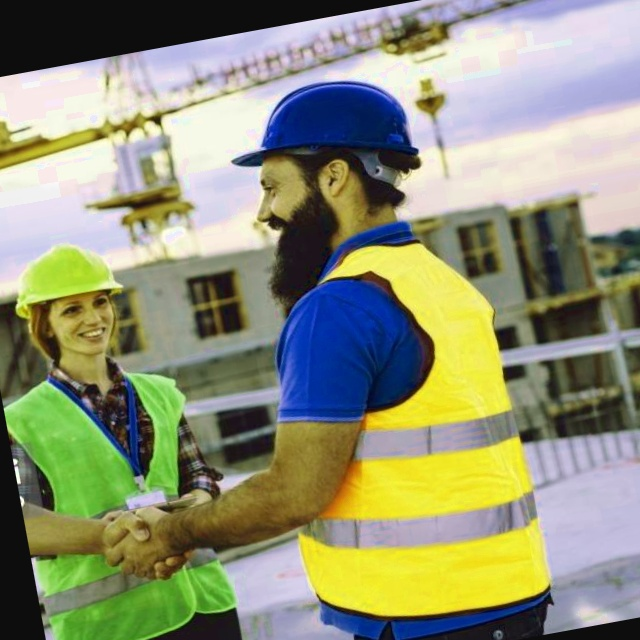Con_Casco: (1, 235, 141, 377)
Con_Chaleco: (246, 229, 545, 638), (0, 358, 233, 640)
